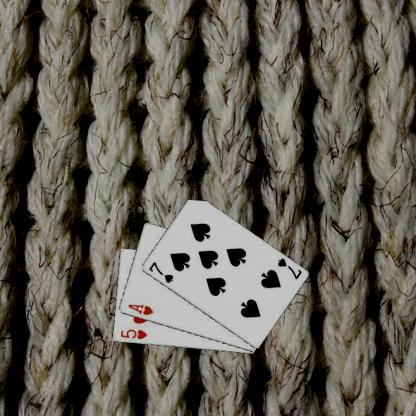5H: (118, 327, 148, 341)
7S: (274, 255, 303, 281), (146, 259, 174, 285)
AH: (125, 302, 154, 316)
